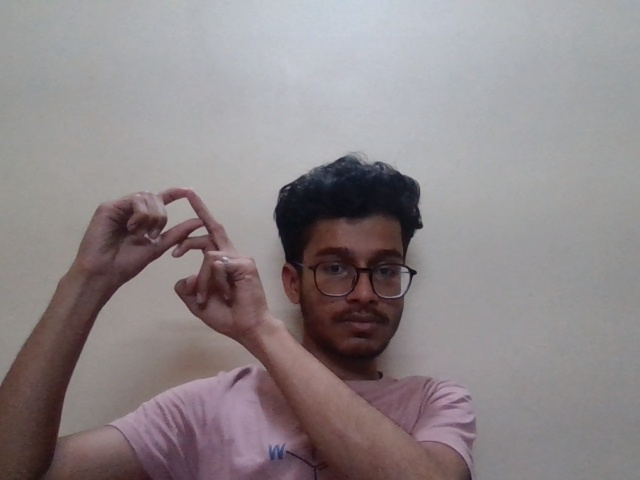R: (61, 183, 283, 339)
